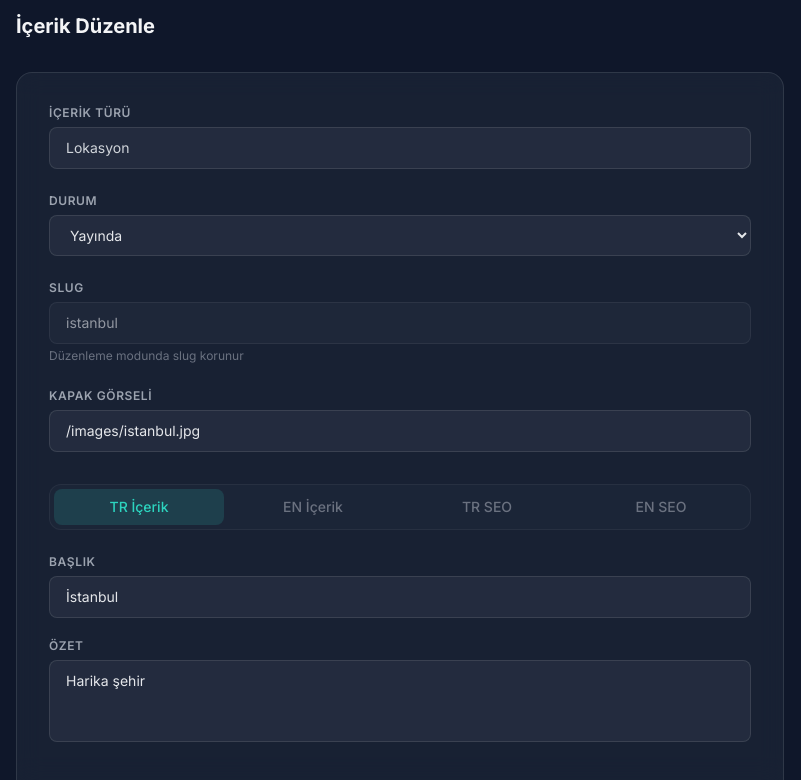
Test: ContentEditor › tab geçişi ile EN içerik alanlarını gösterir
The image size is (801, 780).
What coordinates should you click on to do the following:
click the button "EN İçerik"
I would click on:
 (313, 507)
Its box is [228,489,398,525].
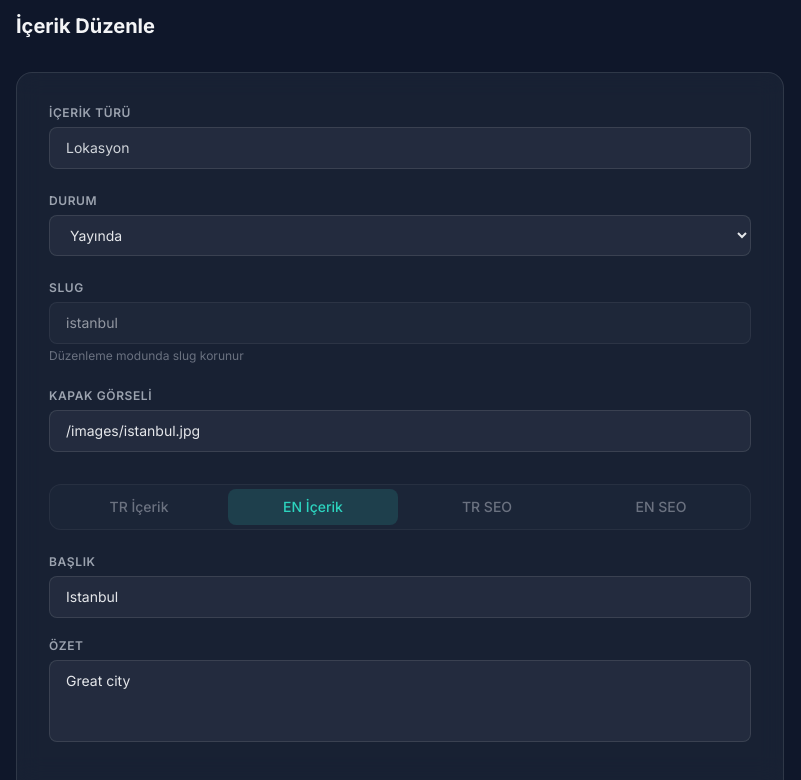
Expected: the field showing "Istanbul" below "Başlık" is shown, [49,576,751,618]
Now the text box showing "Great city" is shown, box [49,660,751,742]
